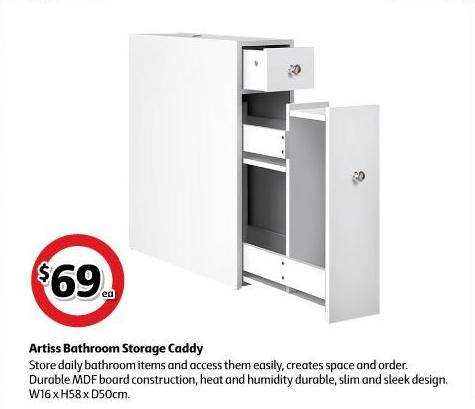description_block: (23, 339, 237, 359)
price_main: (26, 237, 128, 322)
product_image_block: (123, 23, 395, 332)
